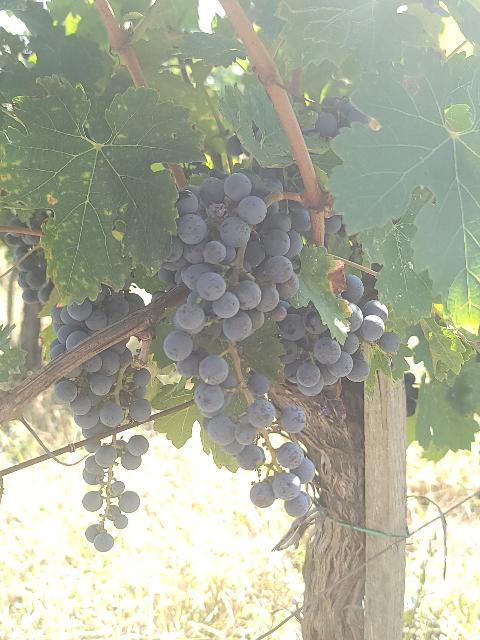grapes: (175, 170, 310, 341), (279, 275, 400, 396), (54, 339, 151, 485), (50, 285, 145, 361), (205, 399, 275, 470), (250, 442, 315, 518), (4, 231, 54, 305), (82, 475, 139, 529), (194, 355, 229, 411), (164, 330, 194, 366), (86, 520, 114, 551), (281, 405, 305, 432), (176, 304, 204, 325), (9, 218, 24, 229), (34, 211, 46, 224)
